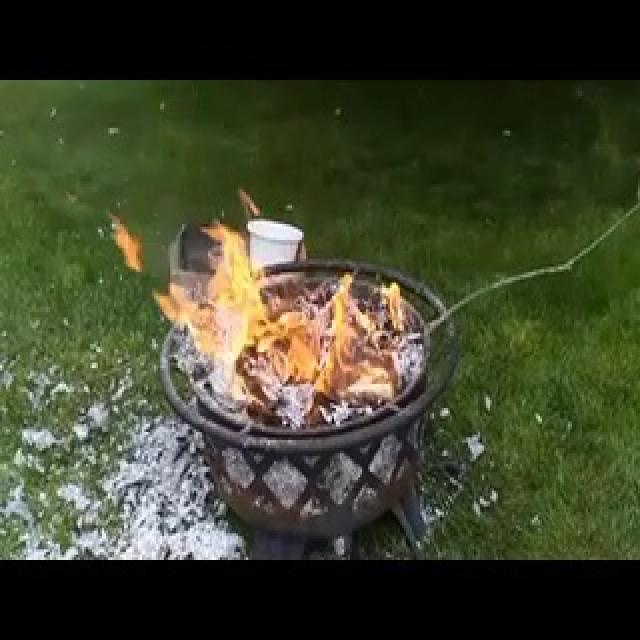fire: (161, 144, 419, 422)
